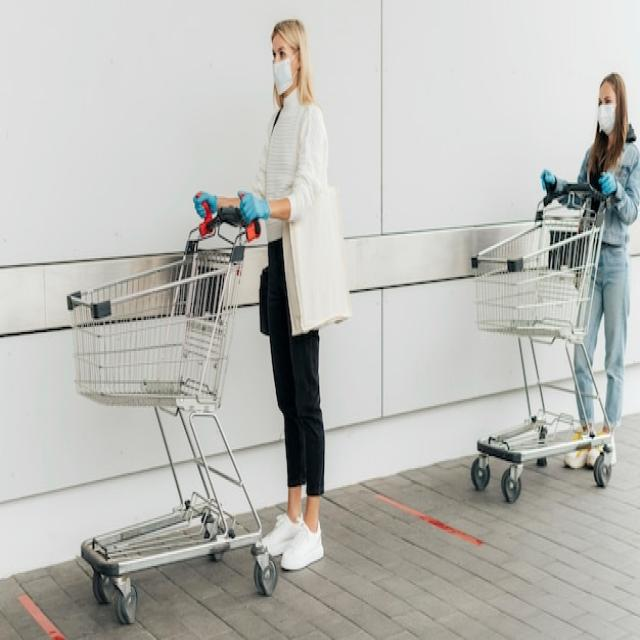Person: (194, 20, 351, 569), (542, 70, 640, 472)
